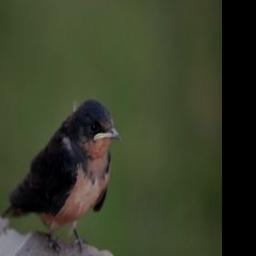Swallow: (2, 96, 121, 256)
